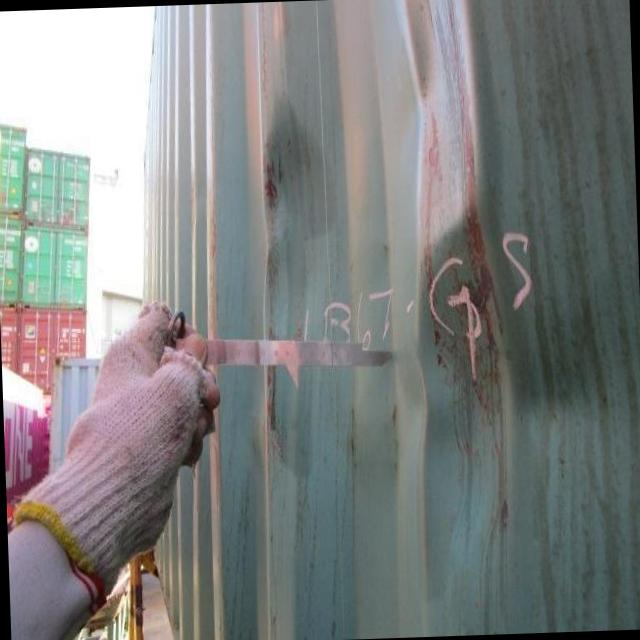Deframe_or_Dent: (202, 111, 602, 574)
